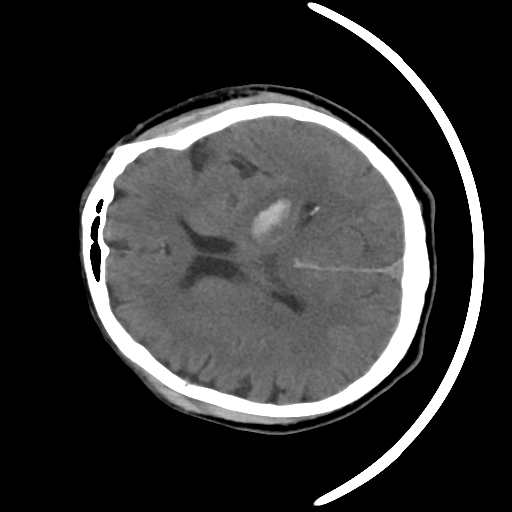a: (228, 170, 310, 256)
